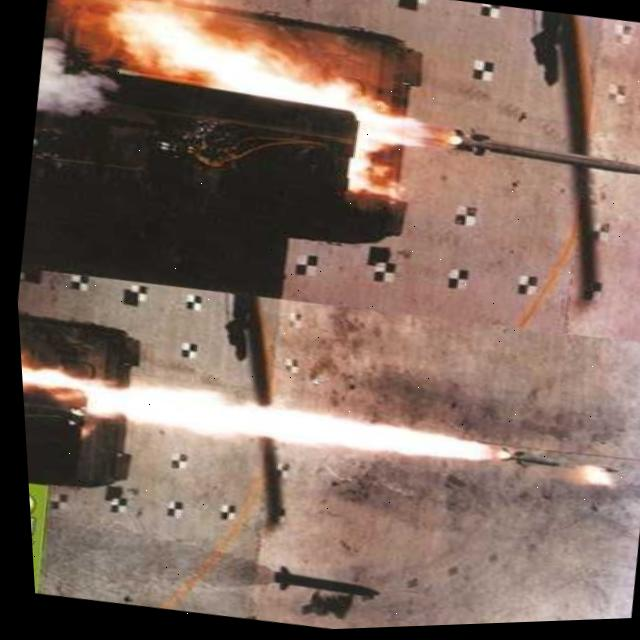missile: (444, 128, 640, 192), (247, 561, 374, 611), (501, 452, 616, 491)
